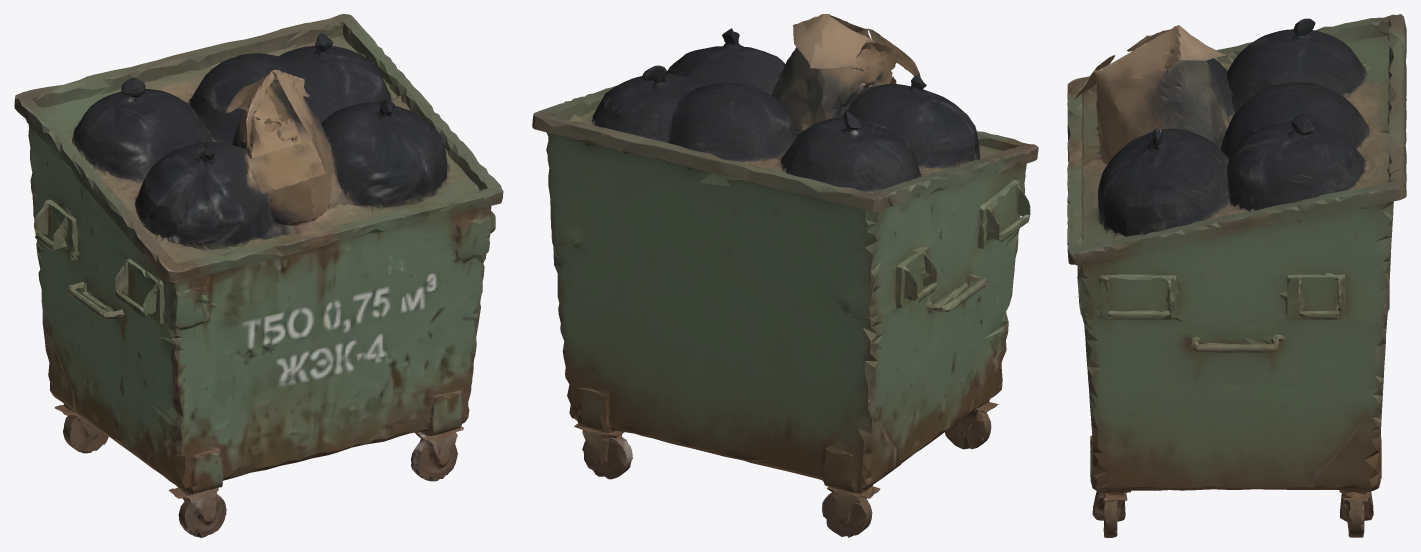
Rendered from trash_dumpster.glb.
3 renders of one model, left to right at view 1: azimuth 30°, elevation 25°; view 2: azimuth 150°, elevation 25°; view 3: azimuth 270°, elevation 25°, orthographic. The views are drawn at different scales.
Visible parts, largest first — view 1: trash_dumpster; view 2: trash_dumpster; view 3: trash_dumpster.
Part boxes in pixels (x1,y1,x2,y2): trash_dumpster: (14, 14, 503, 537); trash_dumpster: (532, 14, 1038, 537); trash_dumpster: (1067, 14, 1406, 537).
Size of the model in its own units: 1.4 by 1.58 by 1.09.
1 material, 1 textured.
